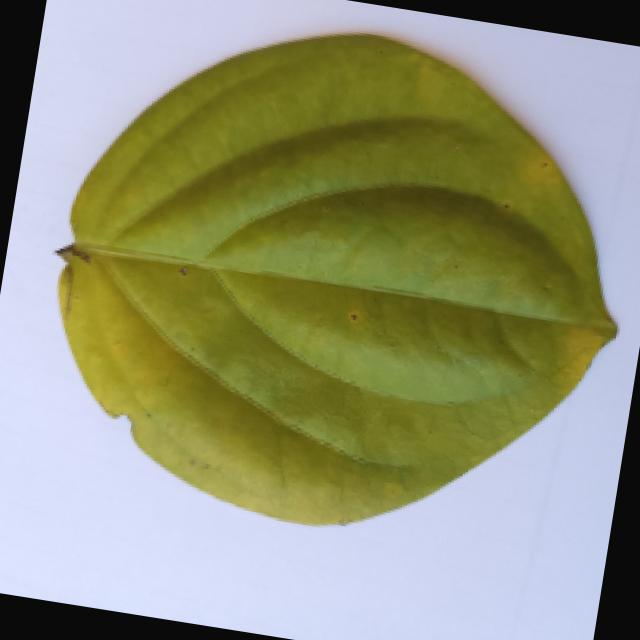slow-decline: (27, 0, 640, 561)
